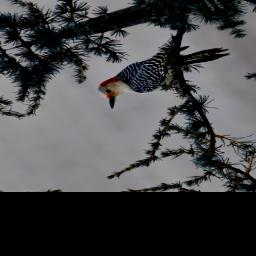Woodpecker: (81, 37, 247, 109)
